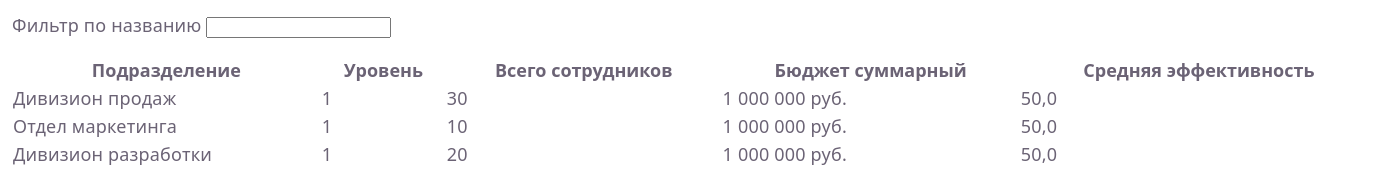
Test: OrgTable › AC-002-9: фильтр работает поверх текущей сортировки, «Ничего не найдено» при отсутствии совпадений
Click the button "Всего сотрудников" at (584, 70), box [495,57,672,83]
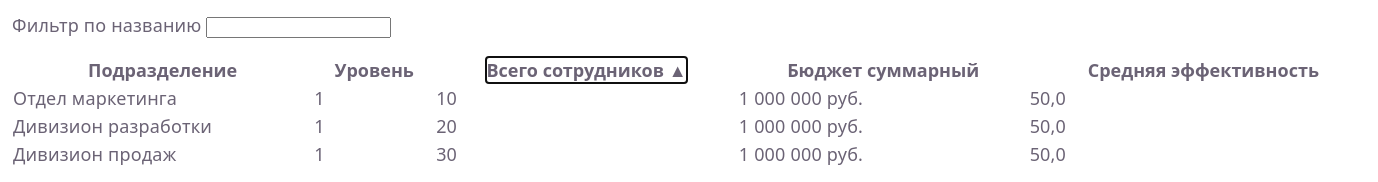
Type "дивизион" into the field labelled "Фильтр по названию" at (299, 28), box [206,17,391,38]
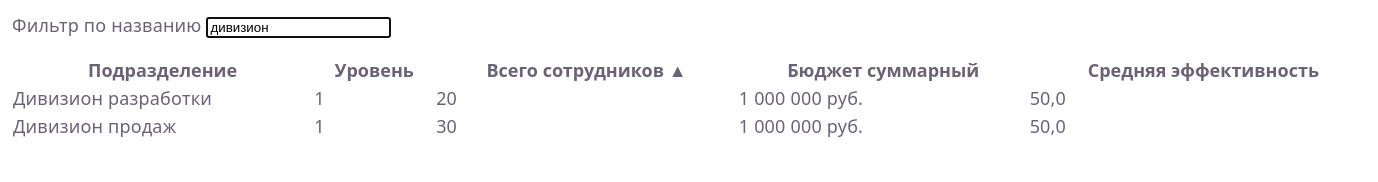
Replace the text in the field labelled "Фильтр по названию" with "нет такого" at (299, 28), box [206,17,391,38]
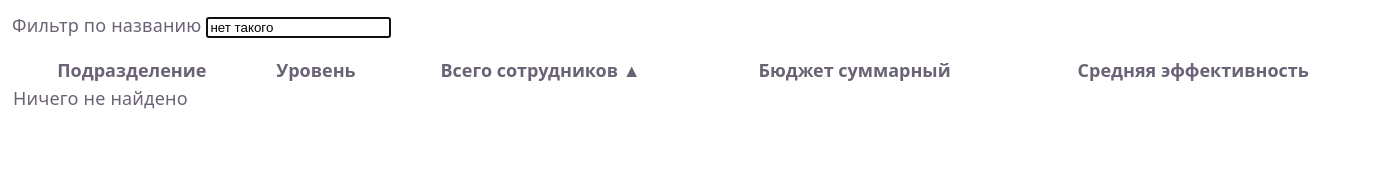
Expected: the text "Ничего не найдено" is shown, [12,84,1377,112]
